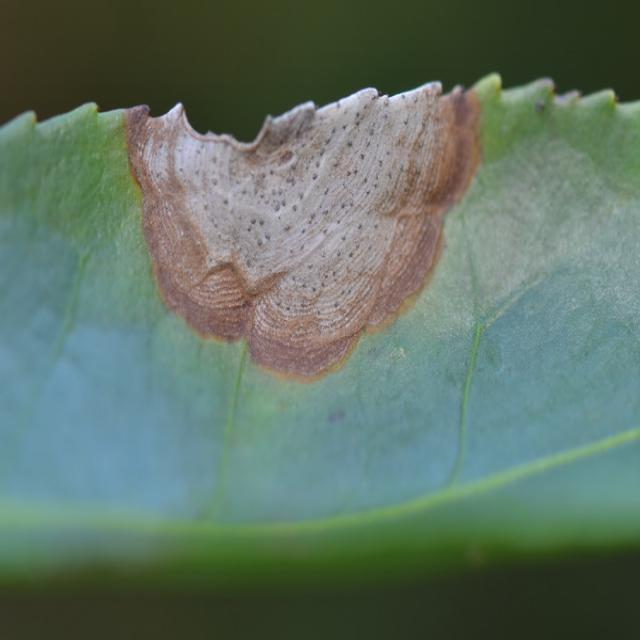Tea cloud leaf blight: (131, 67, 485, 361)
